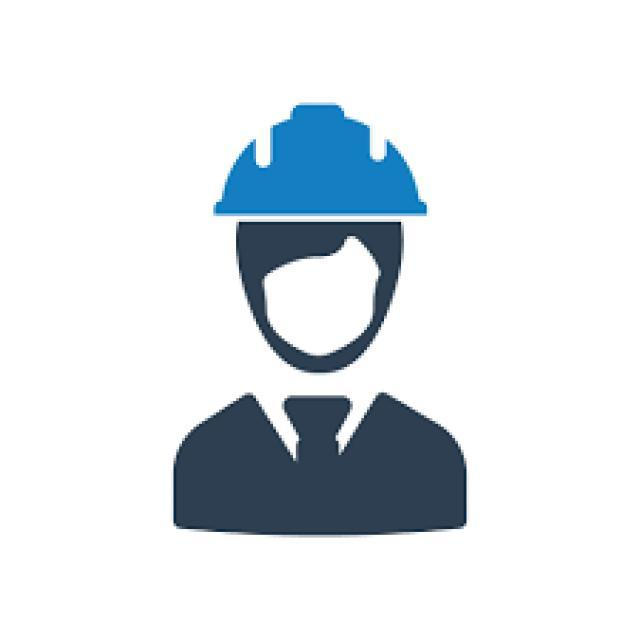safety_helmet: (210, 102, 435, 230)
